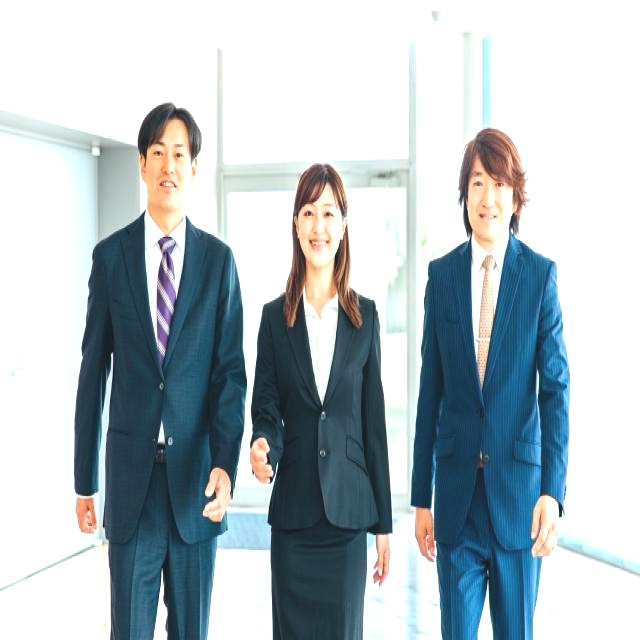Sin_Casco_Mascarrilla: (455, 126, 529, 232), (139, 104, 201, 208), (292, 163, 348, 271)
Sin_Chaleco: (93, 210, 236, 500), (427, 238, 561, 495), (259, 283, 379, 517)
